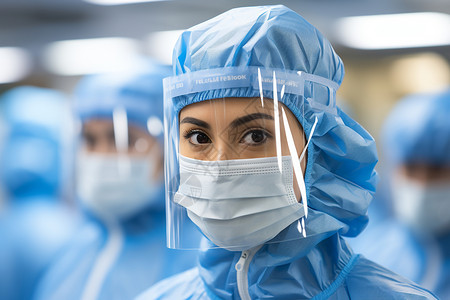with_mask: (161, 74, 315, 255)
